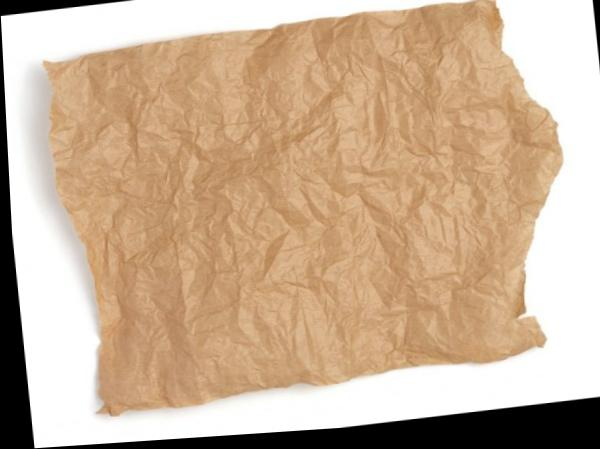paper: (15, 0, 595, 442)
